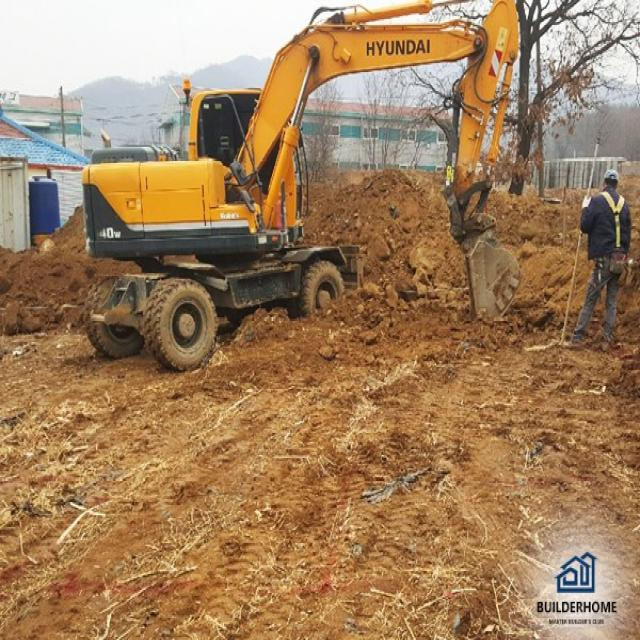excavator: (82, 0, 522, 370)
plant: (409, 0, 640, 195)
